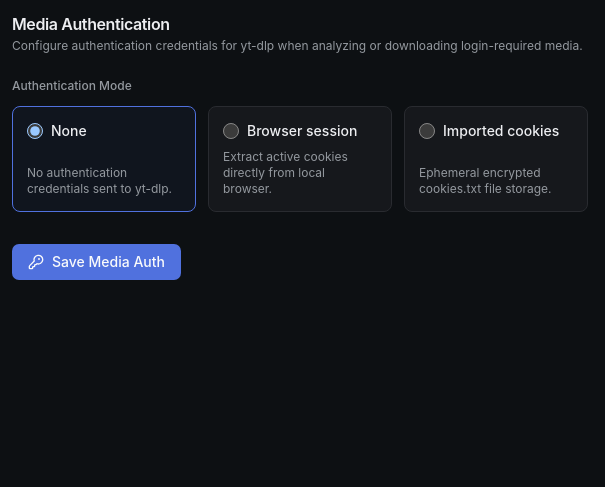
MediaAuthPanel Component › sends updated browser and profile configuration on save
Expected: the heading "Media Authentication" is shown, x1=12 y1=14 x2=170 y2=34
Step 1. Click the radio button labelled "Browser session" → [231, 131], box x1=223 y1=123 x2=239 y2=139
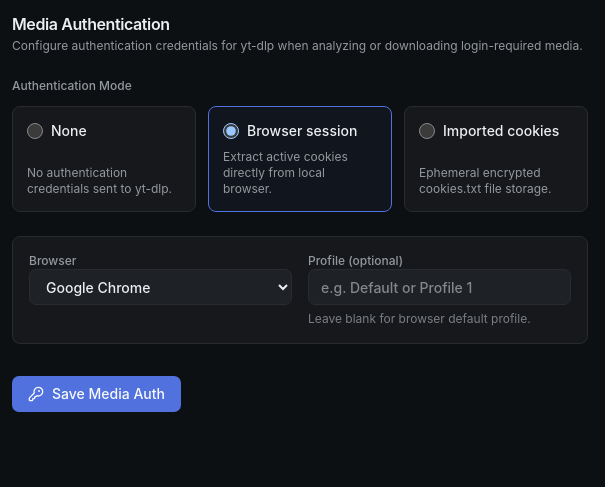
Step 2. Select "Mozilla Firefox" in the dropdown labelled "Browser" → [160, 287], box x1=29 y1=269 x2=292 y2=305
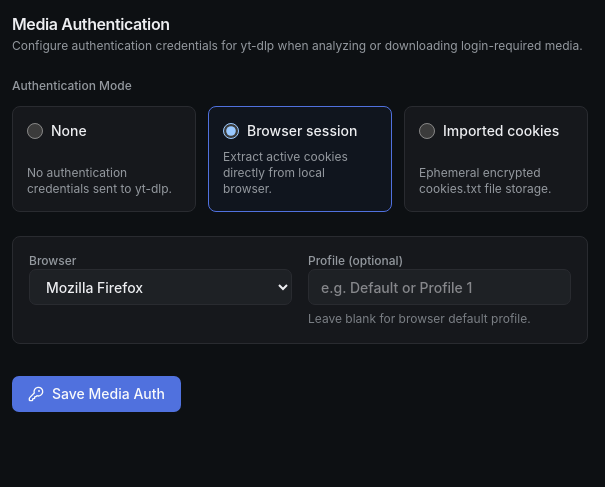
Step 3. Type "dev-profile" into the field named "Browser profile" → [440, 287], box x1=308 y1=269 x2=571 y2=305
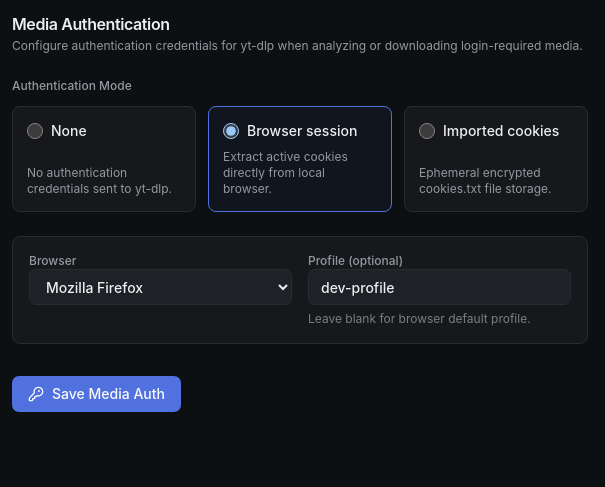
Step 4. Click the button "Save Media Auth" → [96, 394], box x1=12 y1=376 x2=181 y2=412
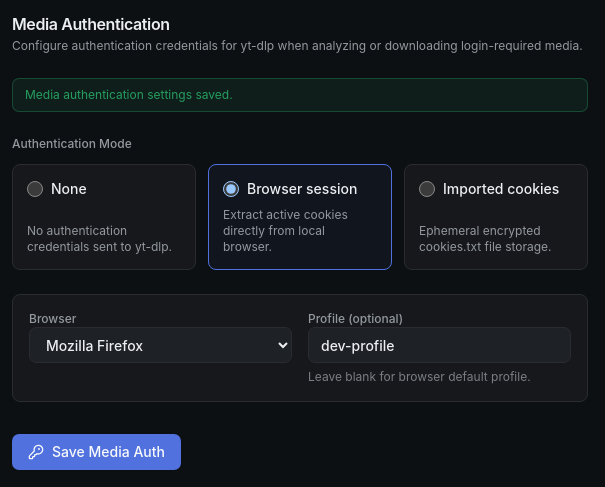
Now the text "Media authentication settings saved." is shown, box x1=12 y1=78 x2=588 y2=112
